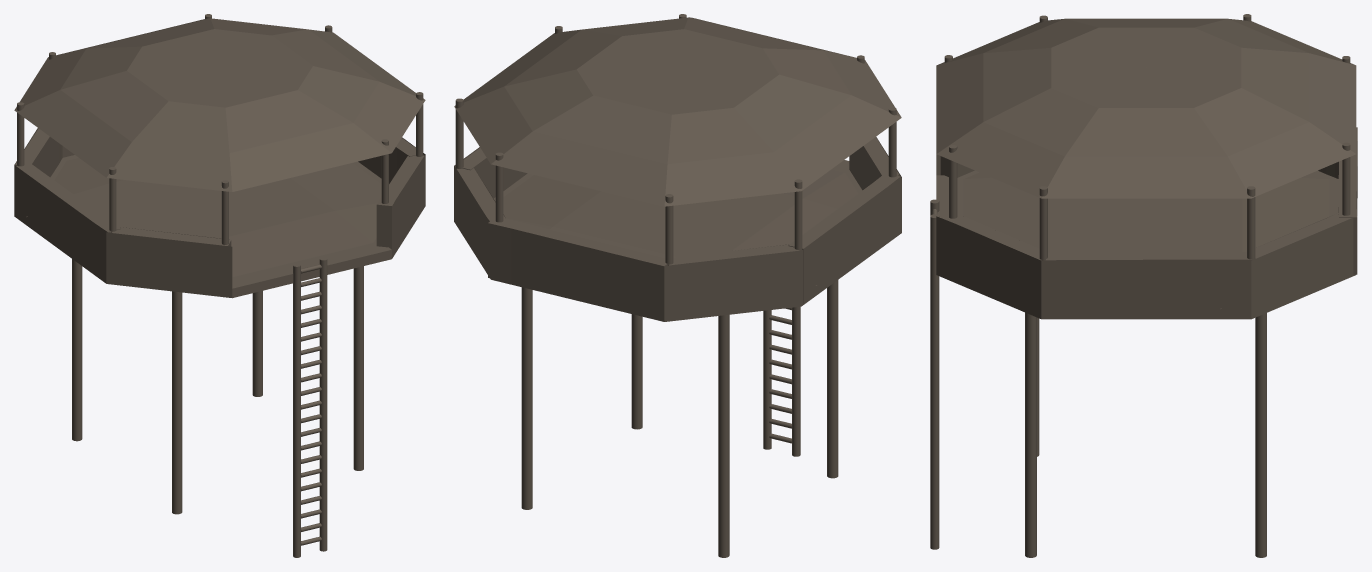
File: Tower Snapshot.fbx
3 renders of one model, left to right at view 1: azimuth 30°, elevation 25°; view 2: azimuth 150°, elevation 25°; view 3: azimuth 270°, elevation 25°, orthographic. The views are drawn at different scales.
Visible parts, largest first — view 1: pCylinder37; view 2: pCylinder37; view 3: pCylinder37.
Part boxes in pixels (x1,y1,x2,y2): pCylinder37: [14, 14, 425, 557]; pCylinder37: [454, 14, 901, 557]; pCylinder37: [930, 14, 1357, 557].
Size of the model in its own units: 1025 by 1267 by 1035.
